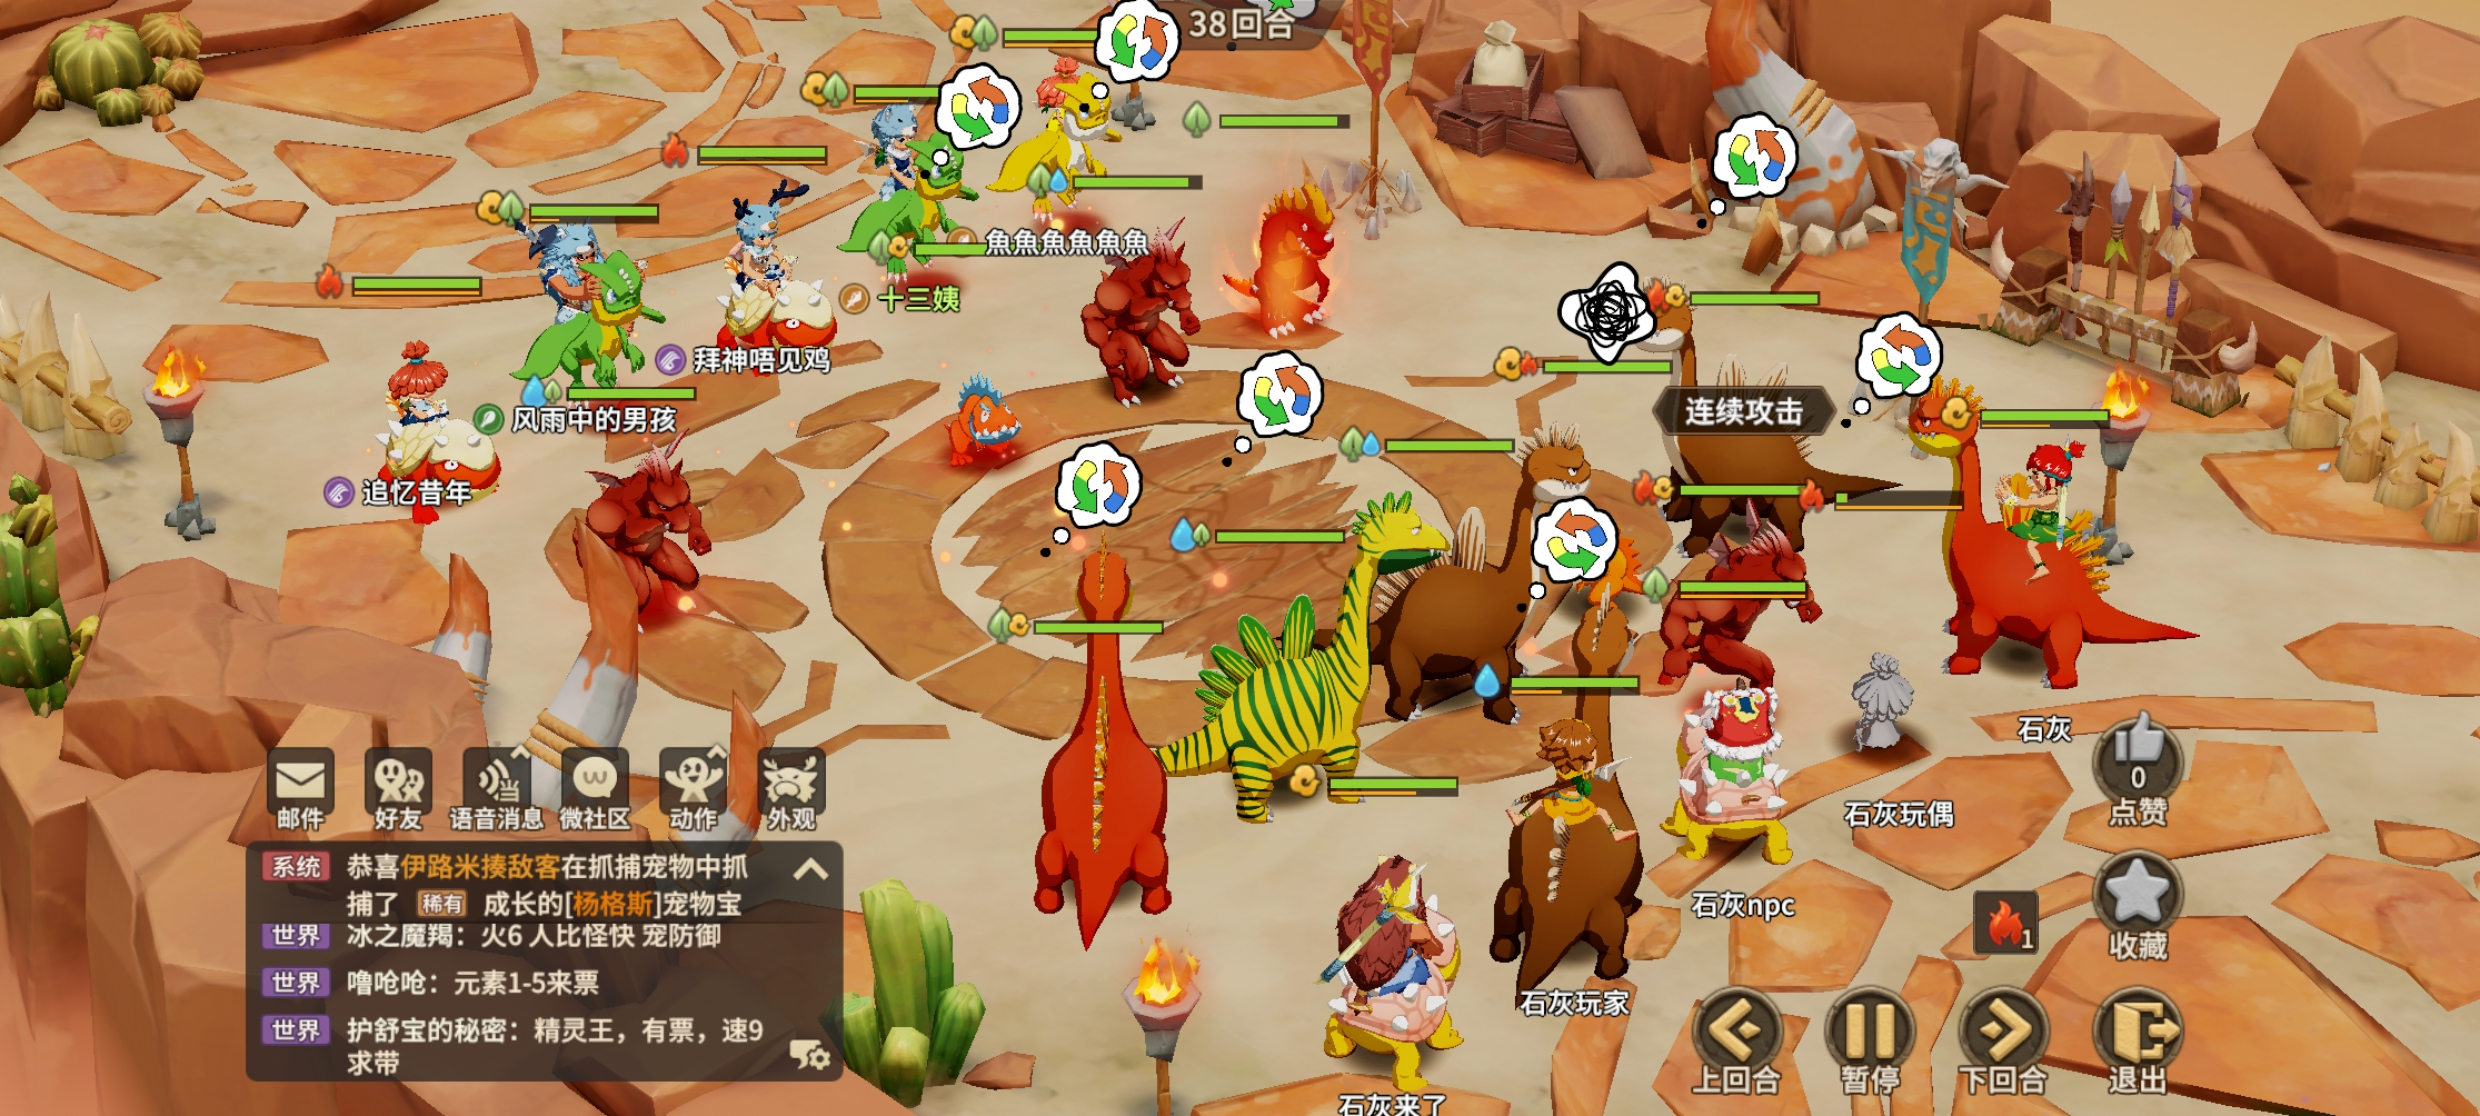葛雷吉鲁: (1648, 495, 1827, 722), (566, 432, 721, 637), (1077, 213, 1207, 413)
